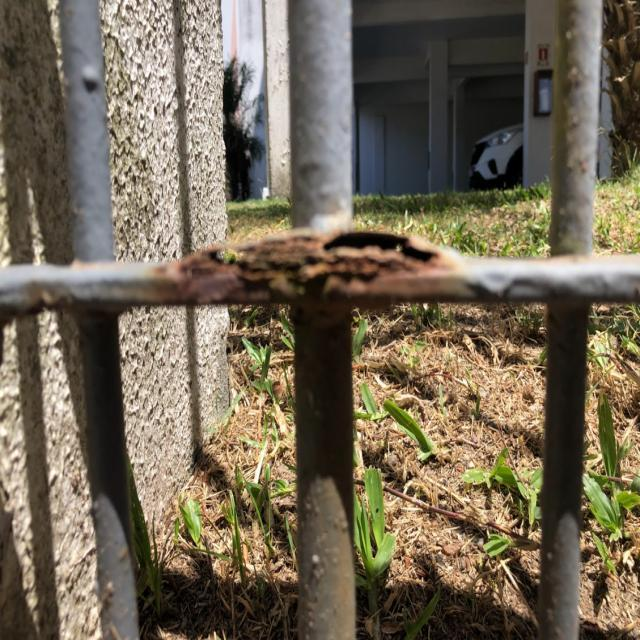Corrosion: (2, 227, 638, 639), (168, 227, 472, 638)
